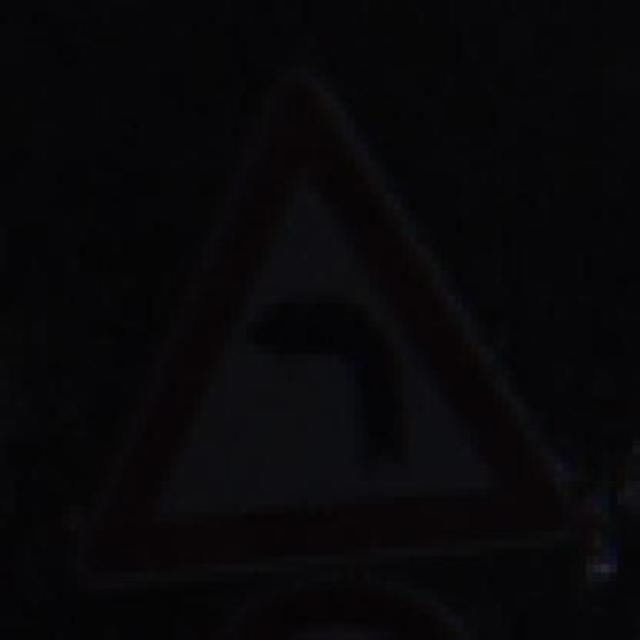Dangerous Left Curve Ahead: (77, 84, 578, 590)
